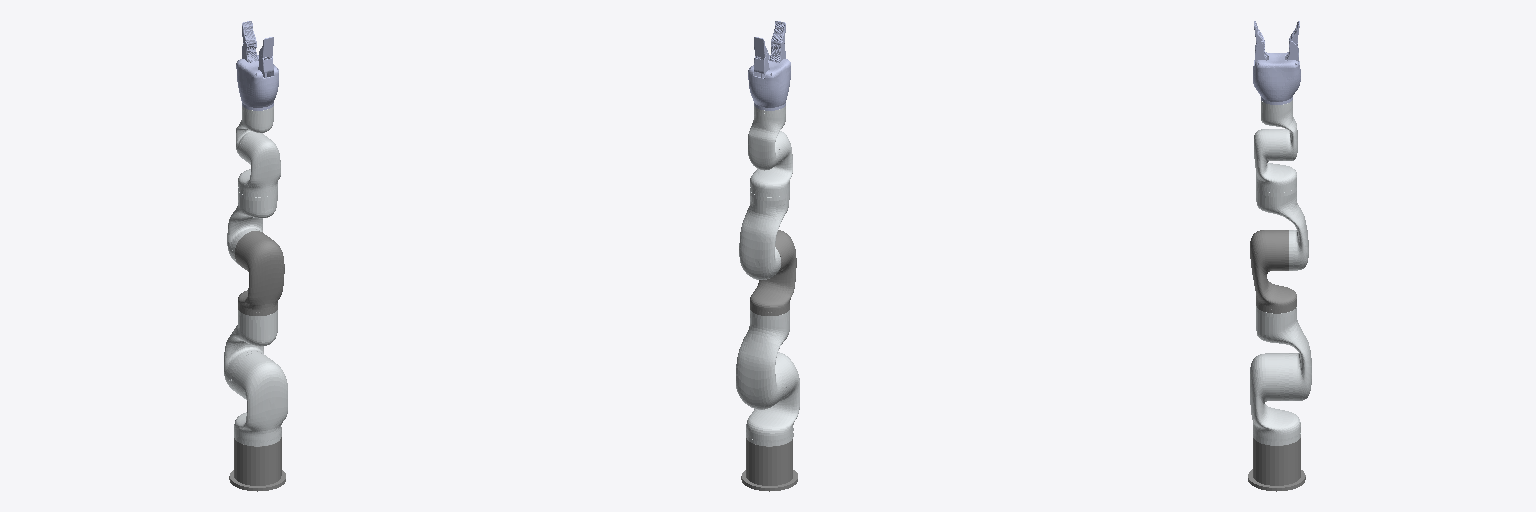
URDF robot description (mra7a):
<?xml version="1.0" ?>
<robot
       name="mra7a" >
  <link name="world"/>

  <!-- base_link -->
  <link
    name="base_link">
    <inertial>
      <origin
        xyz="1.58780600757876E-17 1.16524520215829E-17 0.042502057419515"
        rpy="0 0 0" />
      <mass
        value="0.474965549491937" />
      <inertia
        ixx="0.00102796097257156"
        ixy="3.04931861011564E-20"
        ixz="-2.46655622129667E-19"
        iyy="0.00102796097257156"
        iyz="-2.10531007350427E-19"
        izz="0.00113370981926284" />
    </inertial>
    <visual>
      <origin
        xyz="0 0 0"
        rpy="0 0 0" />
      <geometry>
        <mesh
          filename="package://seven_dof_arm_description/meshes/base_link.STL" />
      </geometry>
      <material
        name="">
        <color
          rgba="0.6 0.6 0.6 1" />
      </material>
    </visual>
    <collision>
      <origin
        xyz="0 0 0"
        rpy="0 0 0" />
      <geometry>
        <mesh
          filename="package://seven_dof_arm_description/meshes/base_link.STL" />
      </geometry>
    </collision>
  </link>
  
  <!-- Fixed joint -->
  <joint name="fixed" type="fixed">
    <origin xyz="0 0 0.5" rpy="0 0 0"/>
    <parent link="world"/>
    <child link="base_link"/>
  </joint>

  <!-- Link1 -->
  <link
    name="Link1">
    <inertial>
      <origin
        xyz="-5.67865757398612E-05 -0.0140433283731522 0.0860916007886425"
        rpy="0 0 0" />
      <mass
        value="0.484821739605689" />
      <inertia
        ixx="0.00190386145326369"
        ixy="-7.3188419055639E-08"
        ixz="-7.58568324322761E-07"
        iyy="0.00198491585396"
        iyz="-0.00012574957933702"
        izz="0.000907237431346532" />
    </inertial>
    <visual>
      <origin
        xyz="0 0 0"
        rpy="0 0 0" />
      <geometry>
        <mesh
          filename="package://seven_dof_arm_description/meshes/Link1.STL" />
      </geometry>
      <material
        name="">
        <color
          rgba="0.898039215686275 0.917647058823529 0.929411764705882 1" />
      </material>
    </visual>
    <collision>
      <origin
        xyz="0 0 0"
        rpy="0 0 0" />
      <geometry>
        <mesh
          filename="package://seven_dof_arm_description/meshes/Link1.STL" />
      </geometry>
    </collision>
  </link>

  <!-- Joint1 -->
  <joint
    name="Joint1"
    type="revolute">
    <origin
      xyz="0 0 0.0999"
      rpy="0 0 0" />
    <parent
      link="base_link" />
    <child
      link="Link1" />
    <axis
      xyz="0 0 1" />
    <limit
      lower="-3.05"
      upper="3.05"
      effort="90"
      velocity="1.31" />
  </joint>


  <!-- Link2 -->
  <link
    name="Link2">
    <inertial>
      <origin
        xyz="-6.69829950373753E-06 -0.0688237660038895 0.0293828169205754"
        rpy="0 0 0" />
      <mass
        value="0.451297334389399" />
      <inertia
        ixx="0.00221375672762505"
        ixy="-2.28618652653104E-07"
        ixz="-5.69361377207988E-08"
        iyy="0.00086071914429245"
        iyz="0.000565127774492468"
        izz="0.00211087682023335" />
    </inertial>
    <visual>
      <origin
        xyz="0 0 0"
        rpy="0 0 0" />
      <geometry>
        <mesh
          filename="package://seven_dof_arm_description/meshes/Link2.STL" />
      </geometry>
      <material
        name="">
        <color
          rgba="0.898039215686275 0.917647058823529 0.929411764705882 1" />
      </material>
    </visual>
    <collision>
      <origin
        xyz="0 0 0"
        rpy="0 0 0" />
      <geometry>
        <mesh
          filename="package://seven_dof_arm_description/meshes/Link2.STL" />
      </geometry>
    </collision>
  </link>

  <!-- Joint2 -->
  <joint
    name="Joint2"
    type="revolute">
    <origin
      xyz="0 0 0.1341"
      rpy="-1.5708 0 0" />
    <parent
      link="Link1" />
    <child
      link="Link2" />
    <axis
      xyz="0 0 1" />
    <limit
      lower="-2.35"
      upper="2.35"
      effort="90"
      velocity="1.31" />
  </joint>


  <!-- Link3 -->
  <link
    name="Link3">
    <inertial>
      <origin
        xyz="-1.6761782916957E-05 -0.014503818618556 0.0821858705585297"
        rpy="0 0 0" />
      <mass
        value="0.374717774772796" />
      <inertia
        ixx="0.00126530640796233"
        ixy="-1.62222439577013E-07"
        ixz="-3.93589373682424E-07"
        iyy="0.00128269848650926"
        iyz="-6.66770058678905E-05"
        izz="0.00052745105806111" />
    </inertial>
    <visual>
      <origin
        xyz="0 0 0"
        rpy="0 0 0" />
      <geometry>
        <mesh
          filename="package://seven_dof_arm_description/meshes/Link3.STL" />
      </geometry>
      <material
        name="">
        <color
          rgba="0.6 0.6 0.6 1" />
      </material>
    </visual>
    <collision>
      <origin
        xyz="0 0 0"
        rpy="0 0 0" />
      <geometry>
        <mesh
          filename="package://seven_dof_arm_description/meshes/Link3.STL" />
      </geometry>
    </collision>
  </link>

  <!-- Joint3 -->
  <joint
    name="Joint3"
    type="revolute">
    <origin
      xyz="0 -0.1659 0"
      rpy="1.5708 0 -1.1102E-16" />
    <parent
      link="Link2" />
    <child
      link="Link3" />
    <axis
      xyz="0 0 1" />
    <limit
      lower="-3.05"
      upper="3.05"
      effort="67"
      velocity="1.31" />
  </joint>


  <!-- Link4 -->
  <link
    name="Link4">
    <inertial>
      <origin
        xyz="-1.12602407827841E-05 -0.0676246386478926 0.026015498826292"
        rpy="0 0 0" />
      <mass
        value="0.304329731561178" />
      <inertia
        ixx="0.00130027130717768"
        ixy="-1.42798909943852E-08"
        ixz="-1.53500377244814E-07"
        iyy="0.000492188219655464"
        iyz="0.000333857285617771"
        izz="0.00124617372894817" />
    </inertial>
    <visual>
      <origin
        xyz="0 0 0"
        rpy="0 0 0" />
      <geometry>
        <mesh
          filename="package://seven_dof_arm_description/meshes/Link4.STL" />
      </geometry>
      <material
        name="">
        <color
          rgba="0.898039215686275 0.917647058823529 0.929411764705882 1" />
      </material>
    </visual>
    <collision>
      <origin
        xyz="0 0 0"
        rpy="0 0 0" />
      <geometry>
        <mesh
          filename="package://seven_dof_arm_description/meshes/Link4.STL" />
      </geometry>
    </collision>
  </link>

  <!-- Joint4 -->
  <joint
    name="Joint4"
    type="revolute">
    <origin
      xyz="0 0 0.1261"
      rpy="-1.5708 1.1102E-16 1.3617E-16" />
    <parent
      link="Link3" />
    <child
      link="Link4" />
    <axis
      xyz="0 0 1" />
    <limit
      lower="-2.35"
      upper="2.35"
      effort="67"
      velocity="1.31" />
  </joint>


  <!-- Link5 -->
  <link
    name="Link5">
    <inertial>
      <origin
        xyz="-3.06274495444802E-05 -0.0108974394200068 0.0523693738754832"
        rpy="0 0 0" />
      <mass
        value="0.213409797645465" />
      <inertia
        ixx="0.000440858123321773"
        ixy="1.44479438568004E-07"
        ixz="9.31649373938296E-08"
        iyy="0.000436913304189732"
        iyz="-5.42340102456064E-05"
        izz="0.000258832985468246" />
    </inertial>
    <visual>
      <origin
        xyz="0 0 0"
        rpy="0 0 0" />
      <geometry>
        <mesh
          filename="package://seven_dof_arm_description/meshes/Link5.STL" />
      </geometry>
      <material
        name="">
        <color
          rgba="0.898039215686275 0.917647058823529 0.929411764705882 1" />
      </material>
    </visual>
    <collision>
      <origin
        xyz="0 0 0"
        rpy="0 0 0" />
      <geometry>
        <mesh
          filename="package://seven_dof_arm_description/meshes/Link5.STL" />
      </geometry>
    </collision>
  </link>

  <!-- Joint5 -->
  <joint
    name="Joint5"
    type="revolute">
    <origin
      xyz="0 -0.1511 0"
      rpy="1.5708 1.3617E-16 8.3267E-16" />
    <parent
      link="Link4" />
    <child
      link="Link5" />
    <axis
      xyz="0 0 1" />
    <limit
      lower="-3.05"
      upper="3.05"
      effort="67"
      velocity="1.57" />
  </joint>


  <!-- Link6 -->
  <link
    name="Link6">
    <inertial>
      <origin
        xyz="6.35965394519631E-05 -0.0464874244752261 0.0142268710300685"
        rpy="0 0 0" />
      <mass
        value="0.154125590195249" />
      <inertia
        ixx="0.000339720264711383"
        ixy="-3.43204817014535E-07"
        ixz="-2.31101462550568E-07"
        iyy="0.000149787039342989"
        iyz="7.62748033955854E-05"
        izz="0.000332976766047" />
    </inertial>
    <visual>
      <origin
        xyz="0 0 0"
        rpy="0 0 0" />
      <geometry>
        <mesh
          filename="package://seven_dof_arm_description/meshes/Link6.STL" />
      </geometry>
      <material
        name="">
        <color
          rgba="0.898039215686275 0.917647058823529 0.929411764705882 1" />
      </material>
    </visual>
    <collision>
      <origin
        xyz="0 0 0"
        rpy="0 0 0" />
      <geometry>
        <mesh
          filename="package://seven_dof_arm_description/meshes/Link6.STL" />
      </geometry>
    </collision>
  </link>

  <!-- Joint6 -->
  <joint
    name="Joint6"
    type="revolute">
    <origin
      xyz="0 0 0.0909"
      rpy="-1.5708 -8.3267E-16 1.3617E-16" />
    <parent
      link="Link5" />
    <child
      link="Link6" />
    <axis
      xyz="0 0 1" />
    <limit
      lower="-2.35"
      upper="2.35"
      effort="67"
      velocity="1.57" />
  </joint>


  <!-- Link7 -->
  <link
    name="Link7">
    <inertial>
      <origin
        xyz="3.92549564291853E-05 -1.41203694746798E-07 0.0458459470285104"
        rpy="0 0 0" />
      <mass
        value="0.0893166549830954" />
      <inertia
        ixx="0.000137053323762152"
        ixy="-1.67918184744521E-08"
        ixz="7.94795260497552E-08"
        iyy="0.000116218332092996"
        iyz="1.55881544355394E-09"
        izz="0.000111067976303793" />
    </inertial>
    <visual>
      <origin
        xyz="0 0 0"
        rpy="0 0 0" />
      <geometry>
        <mesh
          filename="package://seven_dof_arm_description/meshes/Link7.STL" />
      </geometry>
      <material
        name="">
        <color
          rgba="0.792156862745098 0.819607843137255 0.933333333333333 1" />
      </material>
    </visual>
    <collision>
      <origin
        xyz="0 0 0"
        rpy="0 0 0" />
      <geometry>
        <mesh
          filename="package://seven_dof_arm_description/meshes/Link7.STL" />
      </geometry>
    </collision>
  </link>

  <!-- Joint7 -->
  <joint
    name="Joint7"
    type="revolute">
    <origin
      xyz="0 -0.1071 0"
      rpy="1.5708 1.3617E-16 -1.3861E-32" />
    <parent
      link="Link6" />
    <child
      link="Link7" />
    <axis
      xyz="0 0 1" />
    <limit
      lower="-3.05"
      upper="3.05"
      effort="1.57"
      velocity="33" />
  </joint>


  <!-- right_gripper_Link -->
  <link
    name="right_gripper_Link">
    <inertial>
      <origin
        xyz="-0.0115559850544431 0.0429192295848498 2.31562025767919E-05"
        rpy="0 0 0" />
      <mass
        value="0.0284916778213195" />
      <inertia
        ixx="1.39778331348669E-05"
        ixy="-2.30051956866705E-06"
        ixz="-8.66823680494399E-09"
        iyy="2.88125847185164E-06"
        iyz="1.94235786524353E-08"
        izz="1.3466640307517E-05" />
    </inertial>
    <visual>
      <origin
        xyz="0 0 0"
        rpy="0 0 0" />
      <geometry>
        <mesh
          filename="package://seven_dof_arm_description/meshes/right_gripper_Link.STL" />
      </geometry>
      <material
        name="">
        <color
          rgba="0.792156862745098 0.819607843137255 0.933333333333333 1" />
      </material>
    </visual>
    <collision>
      <origin
        xyz="0 0 0"
        rpy="0 0 0" />
      <geometry>
        <mesh
          filename="package://seven_dof_arm_description/meshes/right_gripper_Link.STL" />
      </geometry>
    </collision>
  </link>

  <!-- right_gripper_Joint -->
  <joint
    name="right_gripper_Joint"
    type="revolute">
    <origin
      xyz="0 0.025 0.0875"
      rpy="1.5708 0 -1.5708" />
    <parent
      link="Link7" />
    <child
      link="right_gripper_Link" />
    <axis
      xyz="0 0 1" />
    <limit
      lower="-0.52"
      upper="0.52"
      effort="33"
      velocity="1.57" />
  </joint>


  <!-- left_gripper_Link -->
  <link
    name="left_gripper_Link">
    <inertial>
      <origin
        xyz="0.0115559840579099 0.0429192252418339 -2.3156247749568E-05"
        rpy="0 0 0" />
      <mass
        value="0.0284916775874153" />
      <inertia
        ixx="1.39778395181089E-05"
        ixy="2.30052096260555E-06"
        ixz="-8.66793994093481E-09"
        iyy="2.88125871466953E-06"
        iyz="-1.94222991506541E-08"
        izz="1.34666468491224E-05" />
    </inertial>
    <visual>
      <origin
        xyz="0 0 0"
        rpy="0 0 0" />
      <geometry>
        <mesh
          filename="package://seven_dof_arm_description/meshes/left_gripper_Link.STL" />
      </geometry>
      <material
        name="">
        <color
          rgba="0.792156862745098 0.819607843137255 0.933333333333333 1" />
      </material>
    </visual>
    <collision>
      <origin
        xyz="0 0 0"
        rpy="0 0 0" />
      <geometry>
        <mesh
          filename="package://seven_dof_arm_description/meshes/left_gripper_Link.STL" />
      </geometry>
    </collision>
  </link>

  <!-- left_gripper_Joint -->
  <joint
    name="left_gripper_Joint"
    type="revolute">
    <origin
      xyz="0 -0.025 0.0875"
      rpy="1.5708 0 -1.5708" />
    <parent
      link="Link7" />
    <child
      link="left_gripper_Link" />
    <axis
      xyz="0 0 1" />
    <limit
      lower="-0.52"
      upper="0.52"
      effort="33"
      velocity="1.57" />
  </joint>


</robot>

--- What the picture shows (computed from the rendered views, not written in the file) ---
The picture shows the robot from 3 angles, left to right: view 1: azimuth 30°, elevation 25°; view 2: azimuth 150°, elevation 25°; view 3: azimuth 270°, elevation 25°; orthographic projection.
Robot: mra7a — 11 links, 10 joints (9 revolute, 1 fixed); root link world; default pose: all joints at 0.
Visible links, largest first — view 1: Link1, Link3, base_link, Link5, Link2, Link7, Link4, Link6, right_gripper_Link; view 2: Link2, Link4, Link1, base_link, Link3, Link6, Link7, Link5, left_gripper_Link; view 3: Link1, Link3, Link2, base_link, Link5, Link7, Link4, Link6.
Link boxes in pixels (left/top/right/bottom): Link1: left=232, top=353, right=287, bottom=446; Link3: left=235, top=231, right=284, bottom=315; base_link: left=229, top=437, right=285, bottom=491; Link5: left=238, top=133, right=280, bottom=197; Link2: left=224, top=310, right=277, bottom=390; Link7: left=236, top=55, right=278, bottom=110; Link4: left=227, top=191, right=277, bottom=264; Link6: left=236, top=106, right=273, bottom=158; right_gripper_Link: left=242, top=21, right=257, bottom=62; Link2: left=736, top=310, right=789, bottom=409; Link4: left=739, top=191, right=789, bottom=279; Link1: left=746, top=352, right=799, bottom=446; base_link: left=741, top=438, right=797, bottom=491; Link3: left=750, top=230, right=796, bottom=315; Link6: left=748, top=106, right=785, bottom=170; Link7: left=748, top=55, right=790, bottom=110; Link5: left=750, top=131, right=792, bottom=196; left_gripper_Link: left=770, top=21, right=785, bottom=62; Link1: left=1250, top=353, right=1300, bottom=445; Link3: left=1250, top=230, right=1296, bottom=313; Link2: left=1256, top=306, right=1311, bottom=400; base_link: left=1248, top=437, right=1305, bottom=491; Link5: left=1254, top=129, right=1296, bottom=192; Link7: left=1253, top=52, right=1300, bottom=104; Link4: left=1256, top=185, right=1308, bottom=270; Link6: left=1261, top=100, right=1297, bottom=160.
Bounding box of the posed robot: 0.12 × 0.1331 × 1.05 m (x, y, z).
Meshes: 10 distinct files referenced, 10 mesh visuals loaded (10 binary STL).
